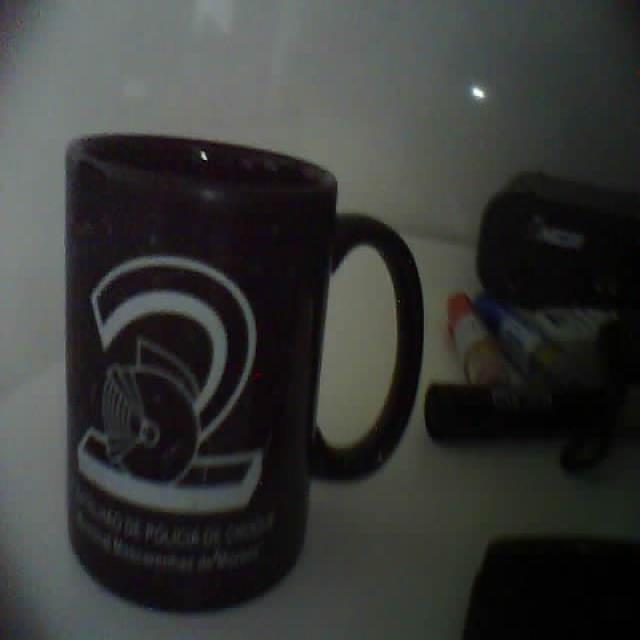caneca: (66, 136, 422, 608)
